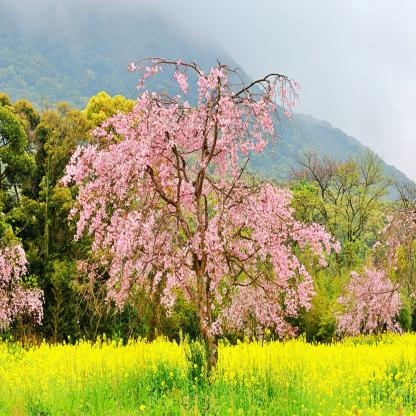ShidareZakura: (55, 55, 342, 345), (333, 199, 416, 337), (1, 238, 46, 331)
